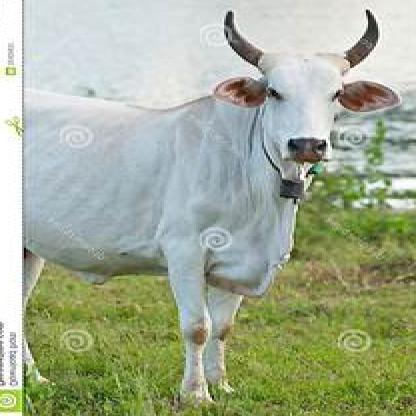cow: (24, 7, 402, 406)
